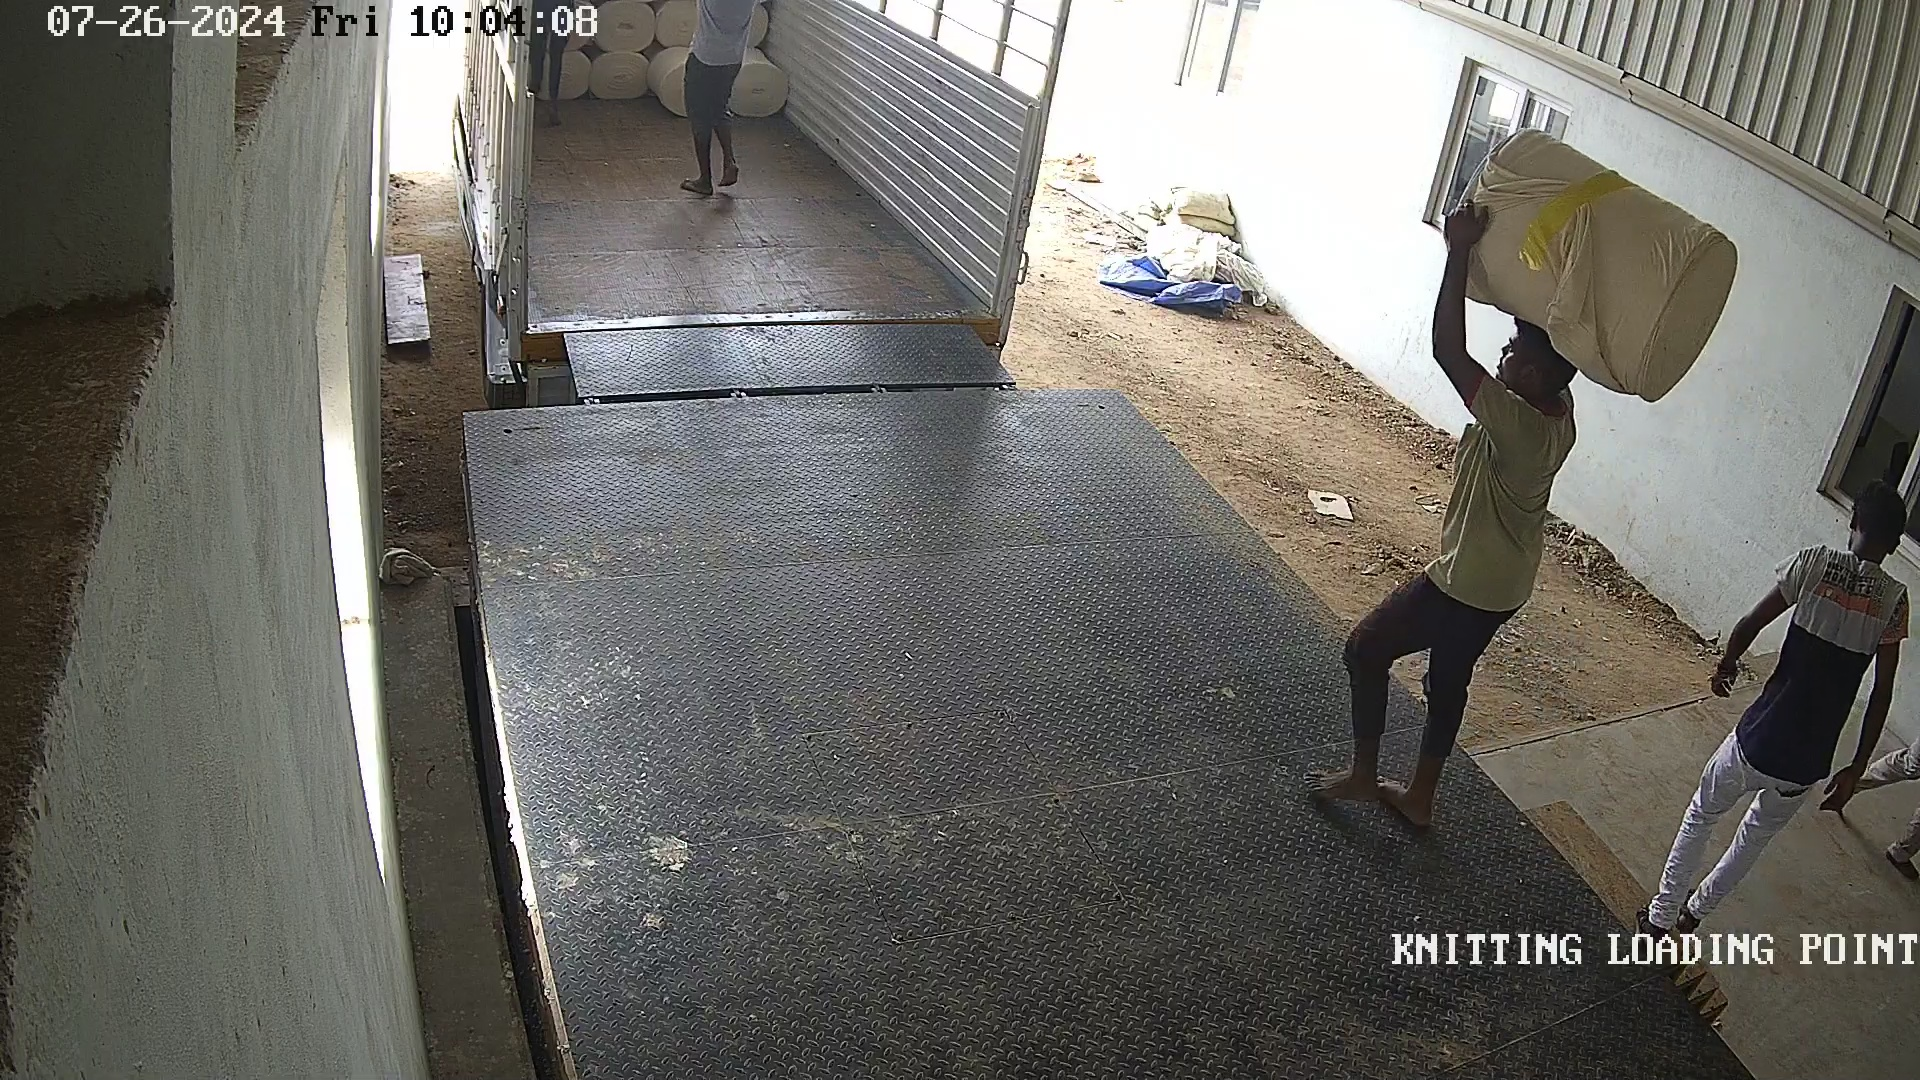bag: (1440, 107, 1743, 407)
